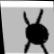not correct: (17, 5, 54, 54)
